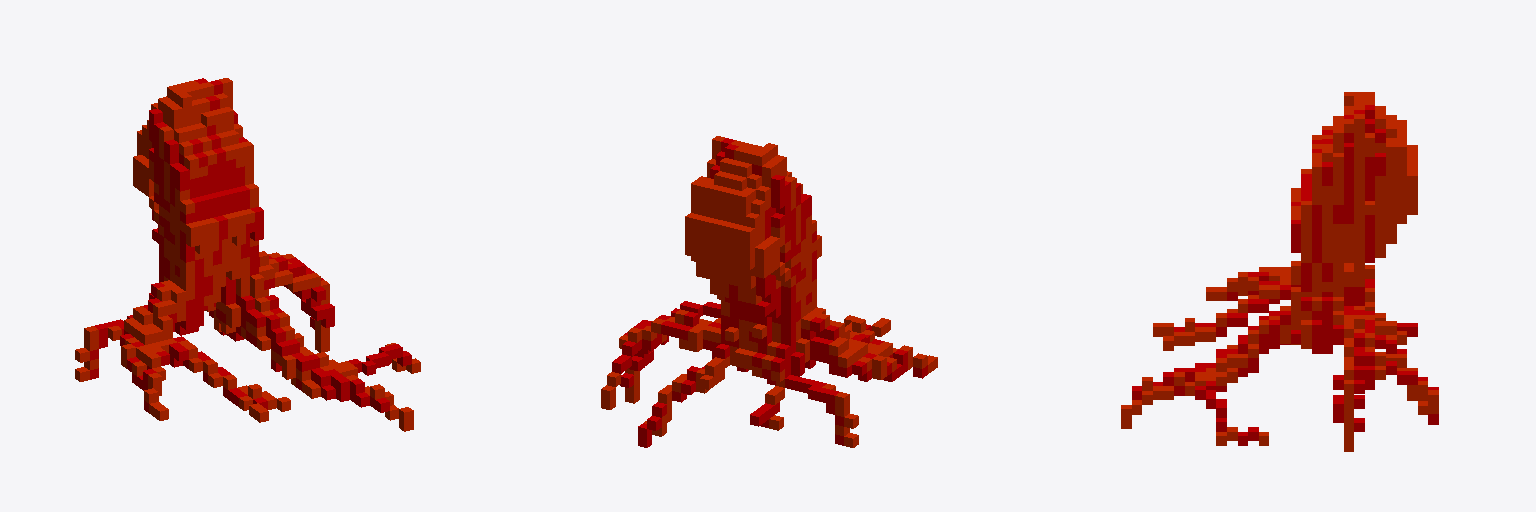
3 renders of one model, left to right at view 1: azimuth 30°, elevation 25°; view 2: azimuth 150°, elevation 25°; view 3: azimuth 270°, elevation 25°, orthographic.
Visible parts, largest first — view 1: ObjObject.001_ObjObject.001_palette.001; view 2: ObjObject.001_ObjObject.001_palette.001; view 3: ObjObject.001_ObjObject.001_palette.001.
Part boxes in pixels (x1,y1,x2,y2): ObjObject.001_ObjObject.001_palette.001: (75,78,420,431); ObjObject.001_ObjObject.001_palette.001: (601,136,937,447); ObjObject.001_ObjObject.001_palette.001: (1121,92,1438,451).
Bounding box in the file's own units: 2.9 × 3 × 3.
1 materials, 1 textured.